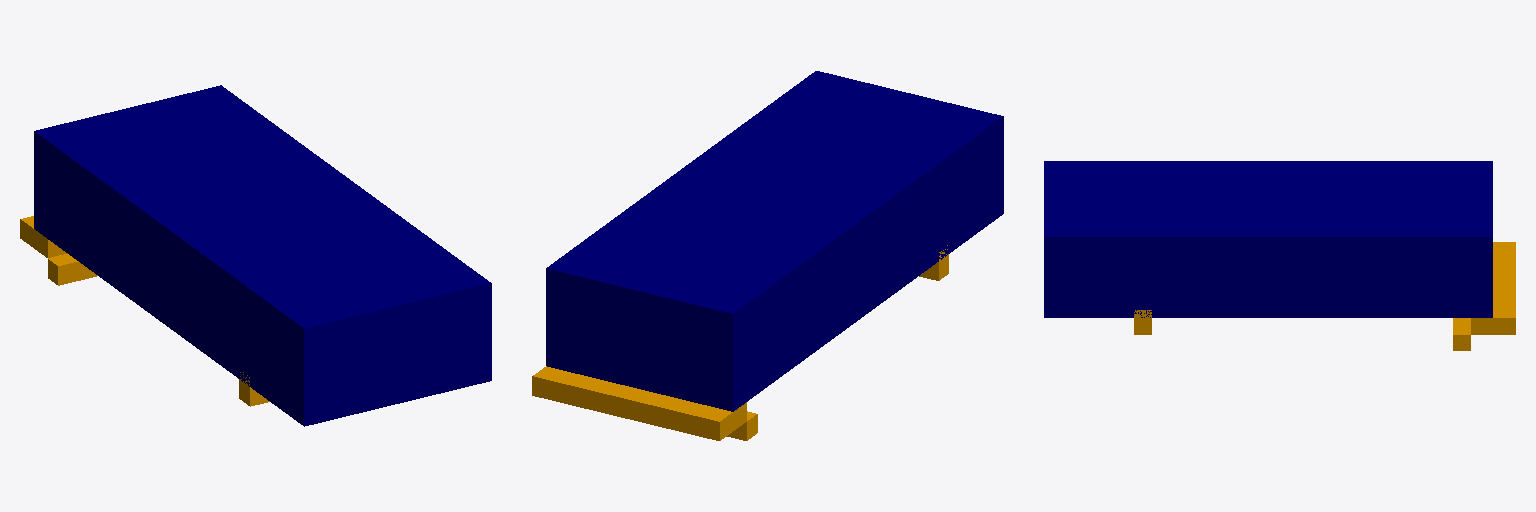
URDF robot description (primclamptest):
<?xml version="0.0" ?>
<robot name="primclamptest">
  <link name="baseLink">
    <!-- <contact>
      <lateral_friction value=".5"/>
    </contact> -->
    <inertial>
      <origin rpy="0 0 0" xyz="0 0 0"/>
       <mass value=".05"/>
       <inertia ixx="1" ixy="0" ixz="0" iyy="1" iyz="0" izz="1"/>
    </inertial>

    <visual>
      <origin rpy="0 0 0" xyz="0 0 0"/>
      <geometry>
        <box size="0.2 0.5 0.1"/>
      </geometry>
      <material name="blue">
        <color rgba="0 0 0.5 1"/>
      </material>
    </visual>

    <visual>
      <origin rpy="0 0 0" xyz="0 0.25 -0.06"/>
      <geometry>
        <box size="0.2 0.05 0.02"/>
      </geometry>
    </visual>

    <visual>
      <origin rpy="0 0 0" xyz="0 0.215 -0.08"/>
      <geometry>
        <box size="0.2 0.02 0.02"/>
      </geometry>
    </visual>


    <collision>
      <origin rpy="0 0 0" xyz="0 0 0"/>
      <geometry>
        <box size="0.2 0.5 0.1"/>
      </geometry>
      <material name="blue">
        <color rgba="0 0 0.5 1"/>
      </material>
    </collision>

    <collision>
      <origin rpy="0 0 0" xyz="0 0.25 -0.06"/>
      <geometry>
        <box size="0.2 0.05 0.02"/>
      </geometry>
    </collision>

    <collision>
      <origin rpy="0 0 0" xyz="0 0.215 -0.08"/>
      <geometry>
        <box size="0.2 0.02 0.02"/>
      </geometry>
    </collision>

    <collision>
      <origin rpy="0 0 0" xyz="0 -0.14 -0.055"/>
      <geometry>
        <box size="0.2 0.02 0.03"/>
      </geometry>
    </collision>

        <visual>
      <origin rpy="0 0 0" xyz="0 -0.14 -0.055"/>
      <geometry>
        <box size="0.2 0.02 0.03"/>
      </geometry>
    </visual>
  </link>
</robot>

--- What the picture shows (computed from the rendered views, not written in the file) ---
3 views of the same robot in one strip: view 1: azimuth 30°, elevation 25°; view 2: azimuth 150°, elevation 25°; view 3: azimuth 270°, elevation 25° (orthographic).
Model primclamptest with 1 links and 0 joints (none), rooted at baseLink, posed all joints at 0.
Visible links, largest first — view 1: baseLink; view 2: baseLink; view 3: baseLink.
Link boxes in pixels (<box>): baseLink: <box>20,85,491,426</box>; baseLink: <box>532,71,1003,440</box>; baseLink: <box>1044,161,1515,350</box>.
Bounding box of the posed robot: 0.2 × 0.525 × 0.14 m (x, y, z).
Geometry: primitives only (box / cylinder / sphere), no mesh files.